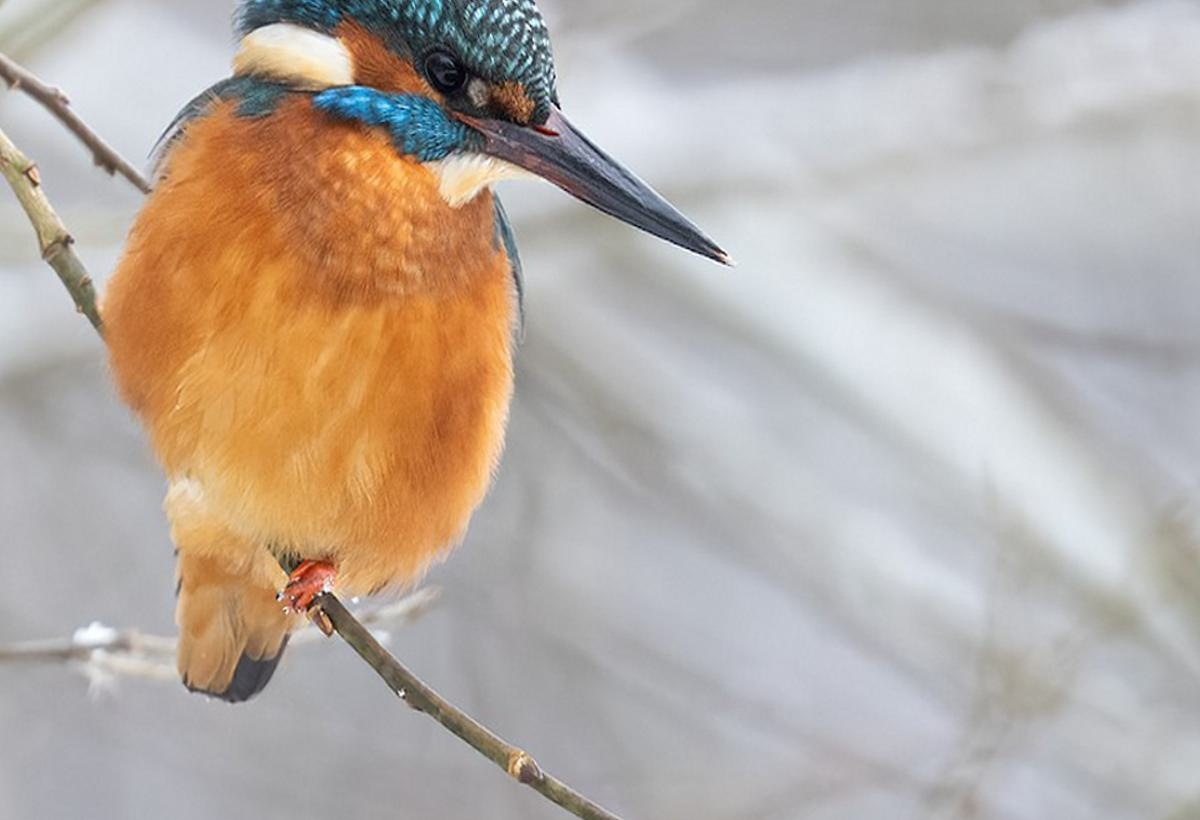kingfisher: (88, 1, 744, 713)
